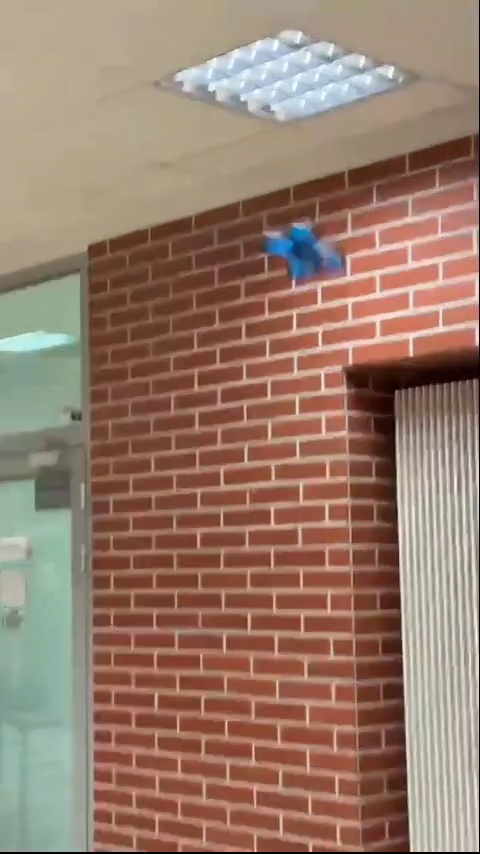drone: (256, 222, 358, 282)
